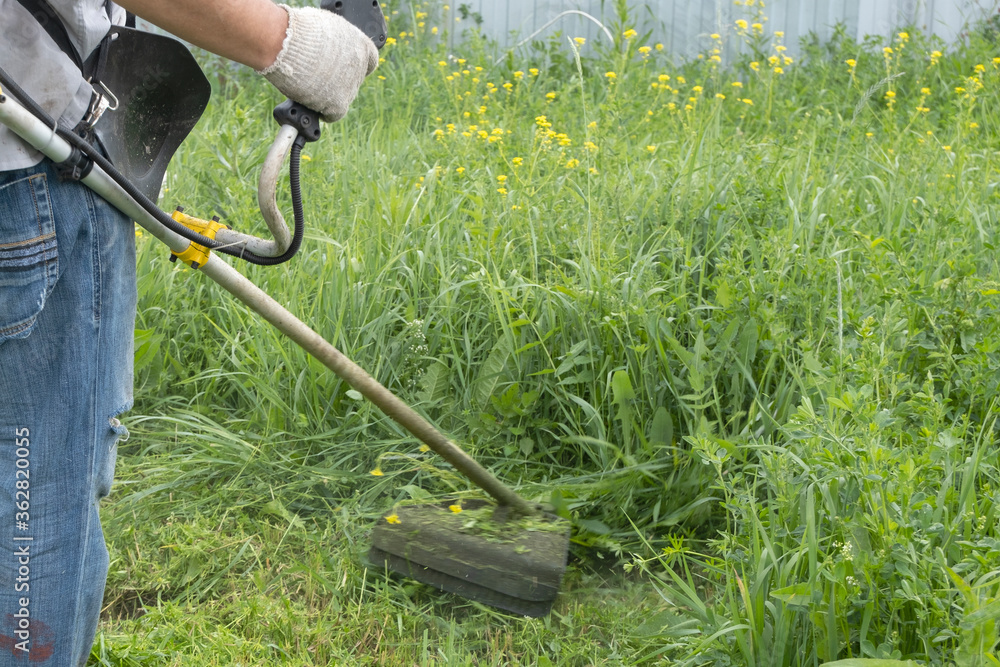grass: (573, 68, 1000, 665)
